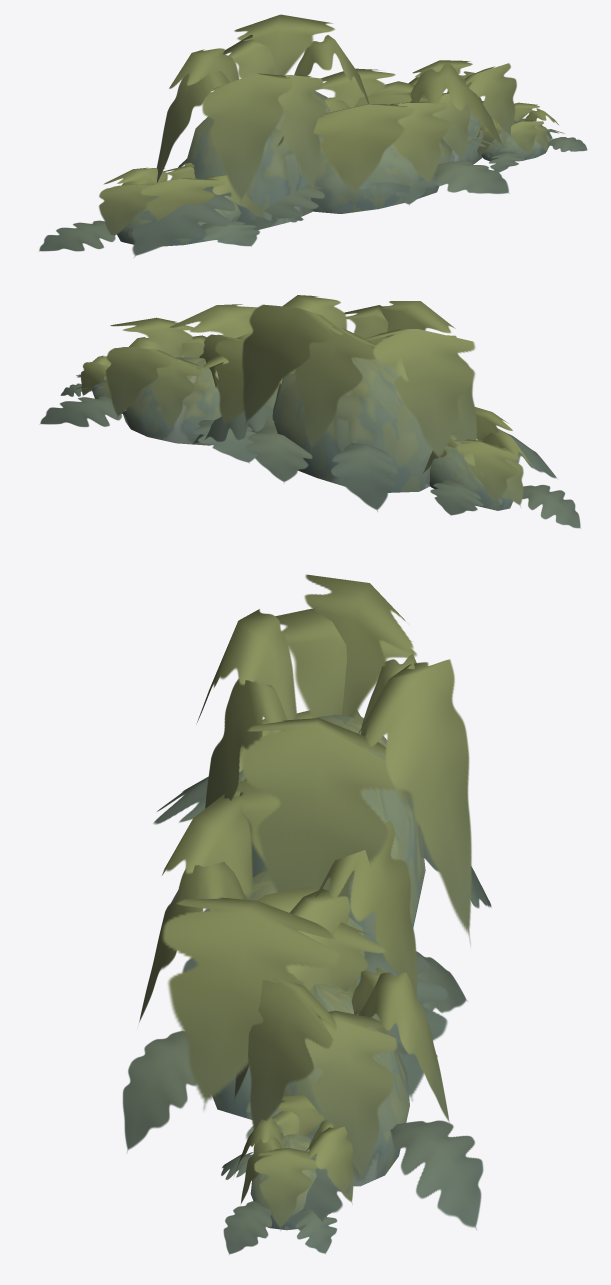
File: kowloon-weed-paint.glb
The picture shows the model from 3 angles, top to bottom: view 1: azimuth 30°, elevation 25°; view 2: azimuth 150°, elevation 25°; view 3: azimuth 270°, elevation 25°; orthographic projection. The views are drawn at different scales.
Bounding box in the file's own units: 0.5666 × 0.1675 × 0.1914.
Materials: 1 (1 with a texture image).
